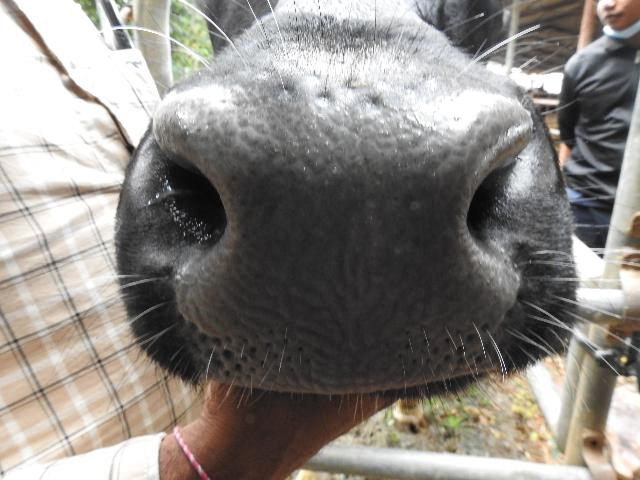Muzzle: (176, 98, 502, 364)
